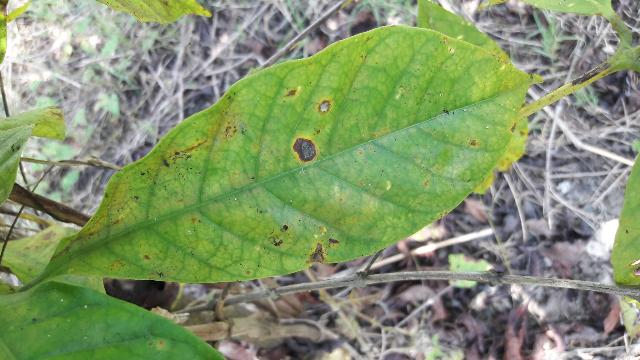red_spider_mite: (32, 25, 550, 286)
